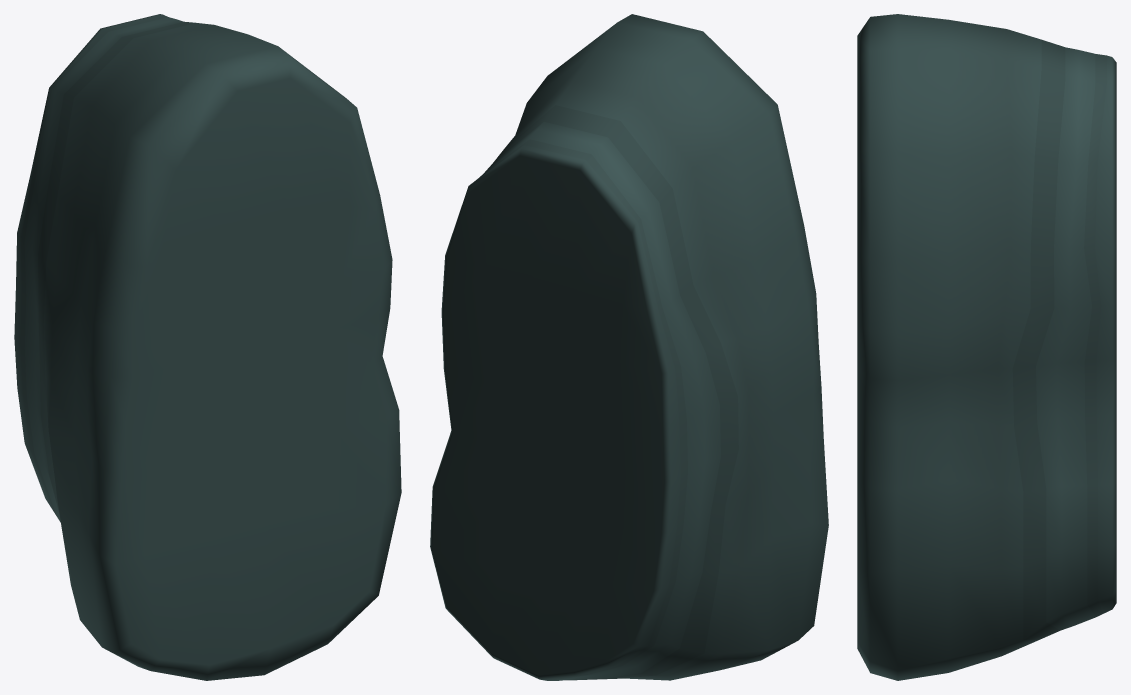
Rendered from AlienCliff.002.glb.
The picture shows the model from 3 angles, left to right: view 1: azimuth 30°, elevation 25°; view 2: azimuth 150°, elevation 25°; view 3: azimuth 270°, elevation 25°; orthographic projection. The views are drawn at different scales.
Parts seen in each view (by area): view 1: AlienCliff.002; view 2: AlienCliff.002; view 3: AlienCliff.002.
Boxes of the visible parts, bbox=[...] form: AlienCliff.002: bbox=[14, 14, 401, 680]; AlienCliff.002: bbox=[430, 14, 828, 680]; AlienCliff.002: bbox=[857, 14, 1116, 680].
Bounding box in the file's own units: 4208 × 8058 × 3025.
